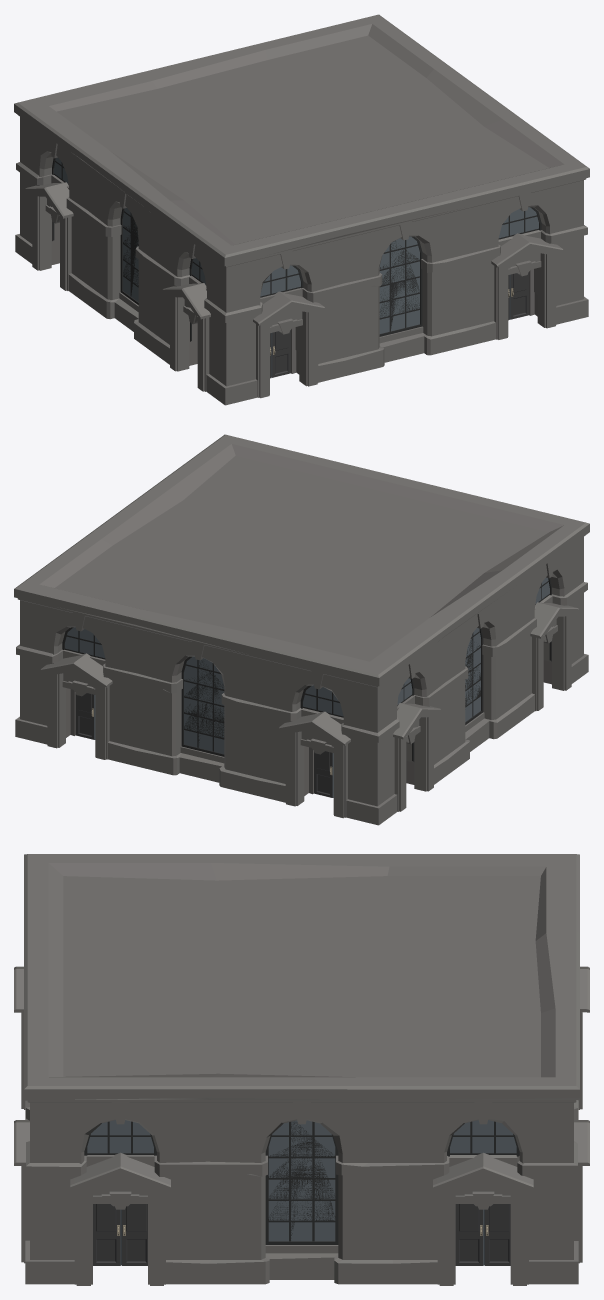
Rendered from house4.fbx.
3 views of the same model, one above another, from view 1: azimuth 30°, elevation 25°; view 2: azimuth 150°, elevation 25°; view 3: azimuth 270°, elevation 25° (orthographic). The views are drawn at different scales.
Visible parts, largest first — view 1: SM_Bld_OfficeOld_Large_Base_01; view 2: SM_Bld_OfficeOld_Large_Base_01; view 3: SM_Bld_OfficeOld_Large_Base_01.
Boxes of the visible parts, x1,y1,x2,y2 form: SM_Bld_OfficeOld_Large_Base_01: (14,14,589,405); SM_Bld_OfficeOld_Large_Base_01: (14,434,589,825); SM_Bld_OfficeOld_Large_Base_01: (14,854,589,1285).
Size of the model in its own units: 0.1587 by 0.06 by 0.1587.
Materials: 1 (1 with a texture image).
